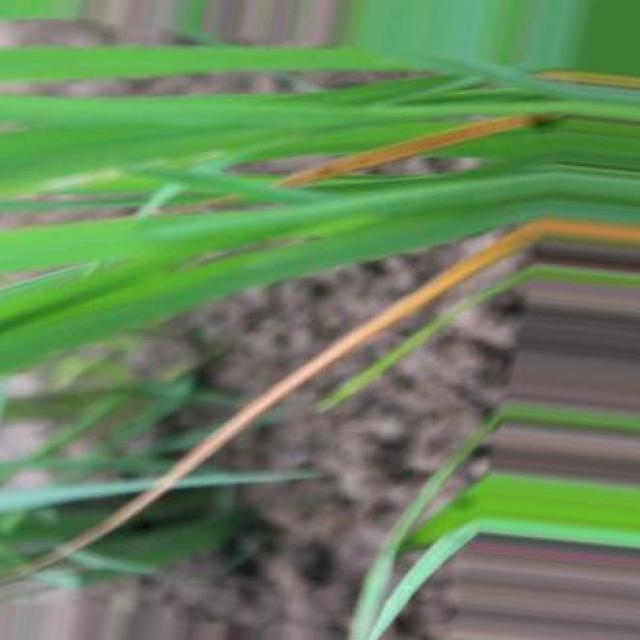Rice Tungro: (15, 219, 640, 579), (278, 116, 557, 186)
